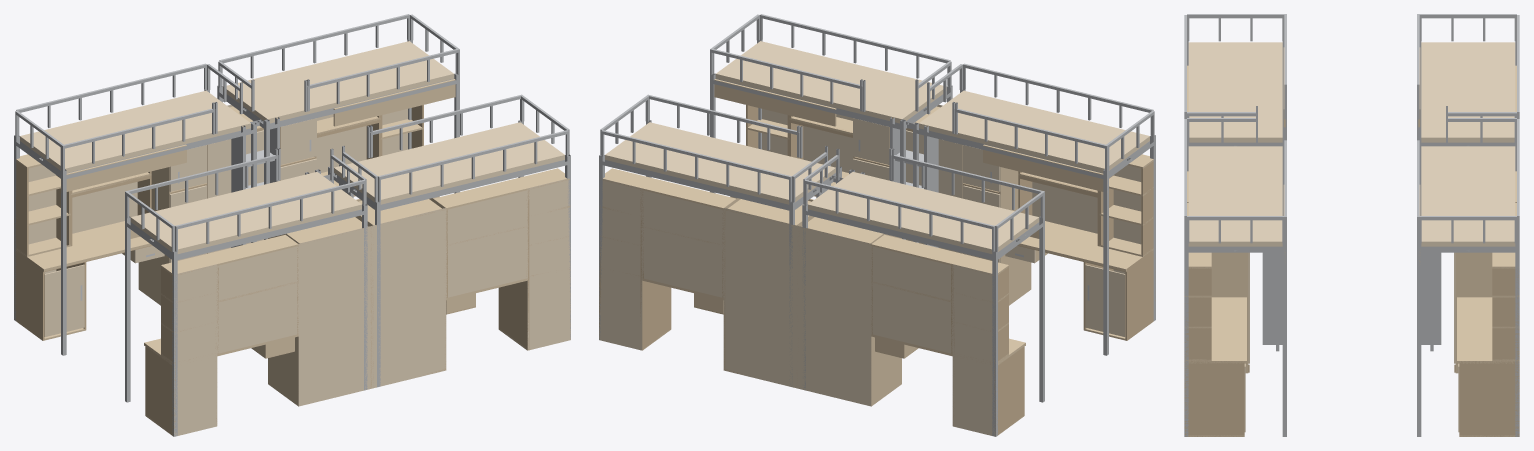
Rendered from 四人宿舍.glb.
The picture shows the model from 3 angles, left to right: view 1: azimuth 30°, elevation 25°; view 2: azimuth 150°, elevation 25°; view 3: azimuth 270°, elevation 25°; orthographic projection. The views are drawn at different scales.
Parts seen in each view (by area): view 1: dorm_desk_base; view 2: dorm_desk_base; view 3: dorm_desk_base.
Boxes of the visible parts, <box> form: dorm_desk_base: <box>14,14,570,436</box>; dorm_desk_base: <box>599,14,1155,436</box>; dorm_desk_base: <box>1184,14,1519,436</box>.
Size of the model in its own units: 4.3 by 2.23 by 3.
